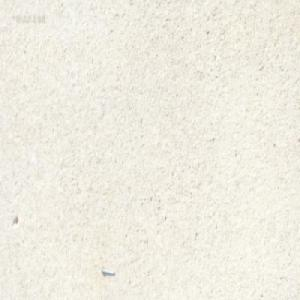Nail: (100, 266, 115, 275)
